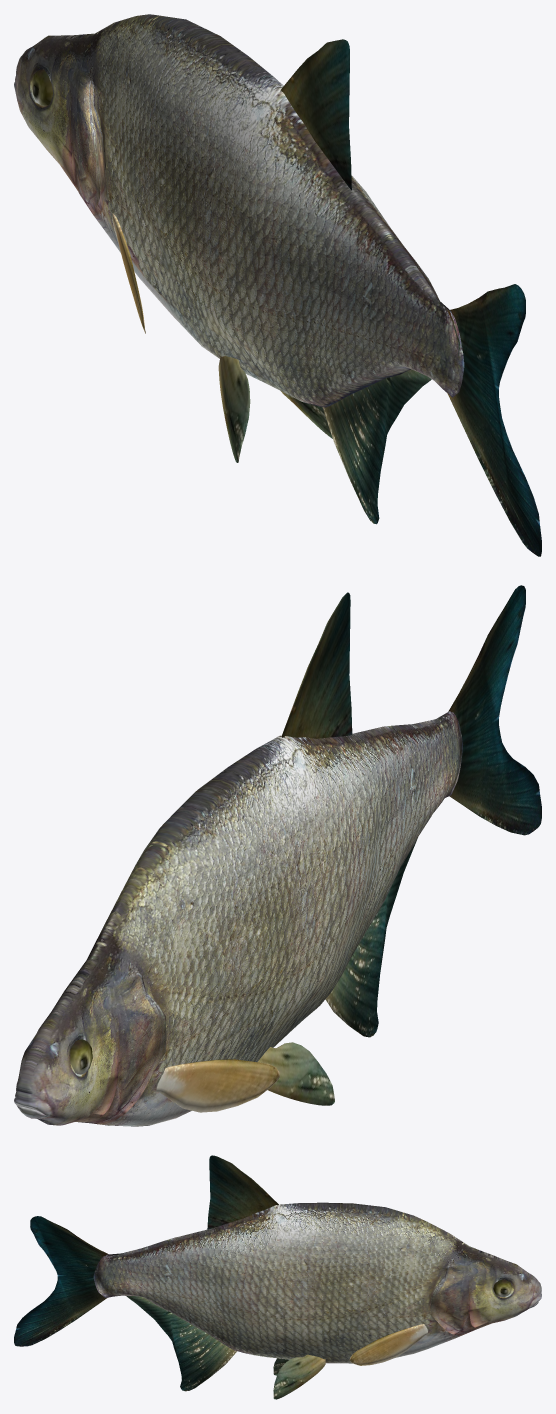
File: lahna_-_braxen_-_bream.glb
3 renders of one model, top to bottom at view 1: azimuth 30°, elevation 25°; view 2: azimuth 150°, elevation 25°; view 3: azimuth 270°, elevation 25°, orthographic. The views are drawn at different scales.
Parts seen in each view (by area): view 1: Plane, Vert.002, Vert.003, Vert.001, Plane.002, Plane.001; view 2: Plane, Vert.002, Vert.001, Plane.001, Vert.003, Plane.002, Icosphere; view 3: Plane, Vert.002, Vert.003, Vert.001, Plane.001, Plane.002.
Part boxes in pixels (<box>): Plane: <box>14,14,464,407</box>; Vert.002: <box>447,284,541,556</box>; Vert.003: <box>322,369,431,524</box>; Vert.001: <box>280,39,351,190</box>; Plane.002: <box>218,356,332,462</box>; Plane.001: <box>112,213,145,333</box>; Plane: <box>14,711,462,1126</box>; Vert.002: <box>448,585,541,835</box>; Vert.001: <box>281,592,352,738</box>; Plane.001: <box>156,1059,279,1112</box>; Vert.003: <box>325,838,417,1037</box>; Plane.002: <box>258,1042,334,1105</box>; Icosphere: <box>70,1039,92,1074</box>; Plane: <box>93,1202,541,1363</box>; Vert.002: <box>14,1216,108,1346</box>; Vert.003: <box>126,1296,236,1391</box>; Vert.001: <box>207,1155,278,1229</box>; Plane.001: <box>349,1324,427,1365</box>; Plane.002: <box>273,1354,325,1399</box>.
Size of the model in its own units: 1.43 by 4.65 by 9.45.
Materials: 7 (7 with a texture image).
